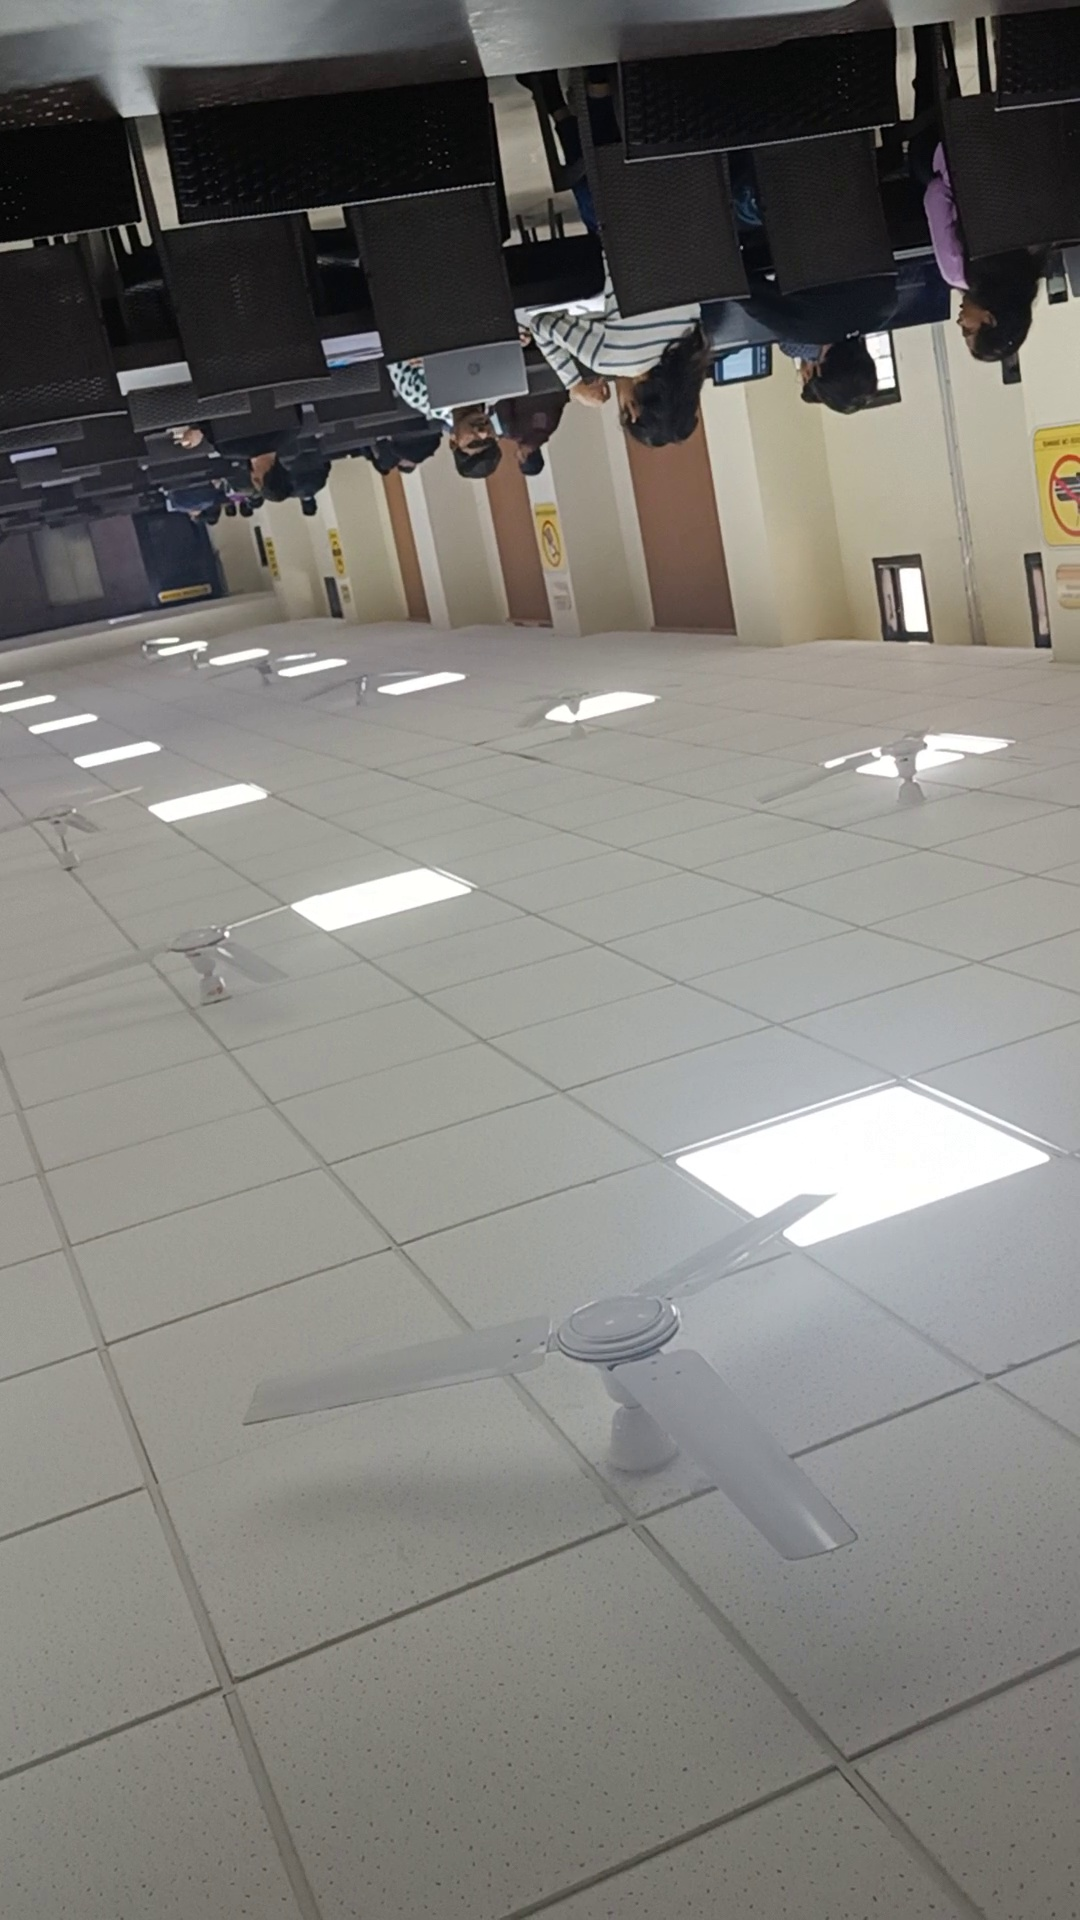fan: (200, 1182, 959, 1607), (55, 885, 343, 1014), (775, 746, 1036, 820)
